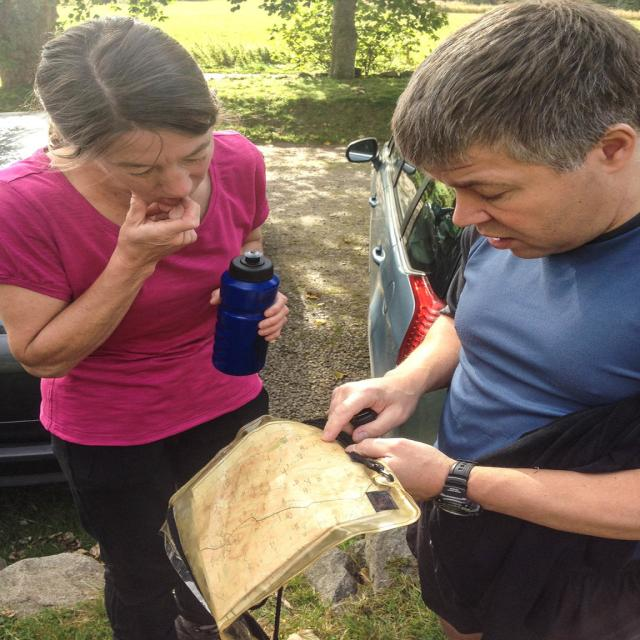Bottle: (199, 246, 287, 368)
